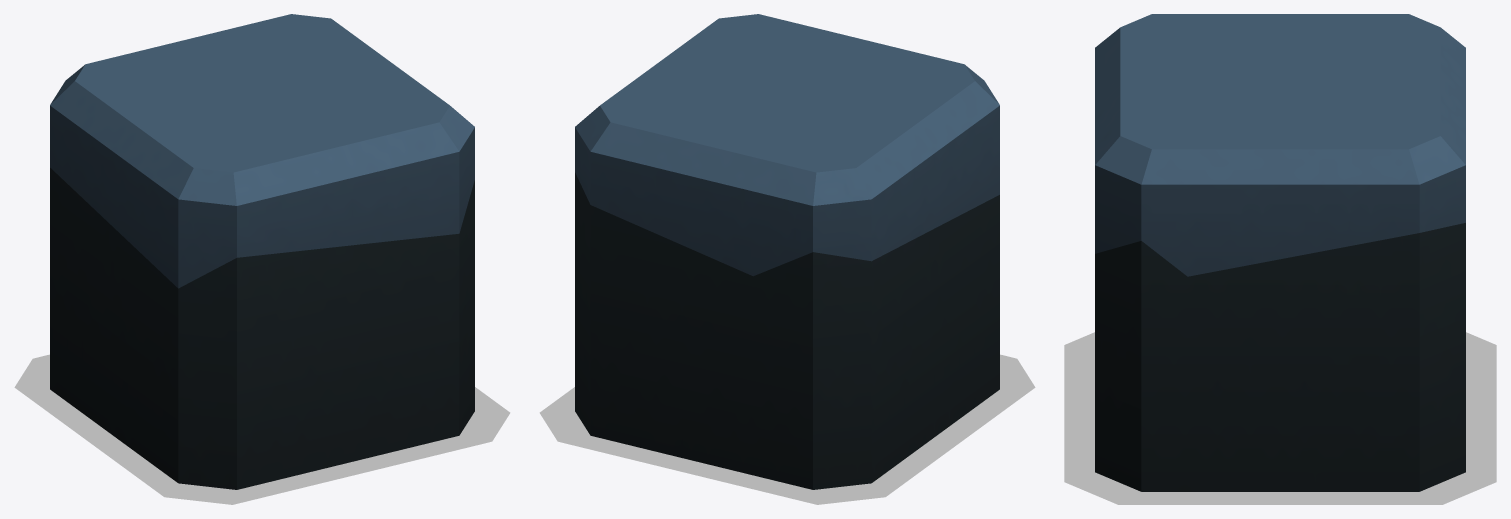
The model's file is 1x1_ground.FBX.
3 views of the same model, side by side, from view 1: azimuth 30°, elevation 25°; view 2: azimuth 150°, elevation 25°; view 3: azimuth 270°, elevation 25° (orthographic). The views are drawn at different scales.
Parts seen in each view (by area): view 1: 1x1_ground, 1x1_ground_soft_shadow; view 2: 1x1_ground, 1x1_ground_soft_shadow; view 3: 1x1_ground, 1x1_ground_soft_shadow.
Boxes of the visible parts, box(x1,y1,x2,y2) form: 1x1_ground: box(50, 14, 474, 489); 1x1_ground_soft_shadow: box(14, 354, 510, 504); 1x1_ground: box(575, 14, 999, 489); 1x1_ground_soft_shadow: box(539, 354, 1035, 504); 1x1_ground: box(1095, 14, 1465, 491); 1x1_ground_soft_shadow: box(1064, 332, 1496, 504).
Size of the model in its own units: 1166 by 1000 by 1166.
